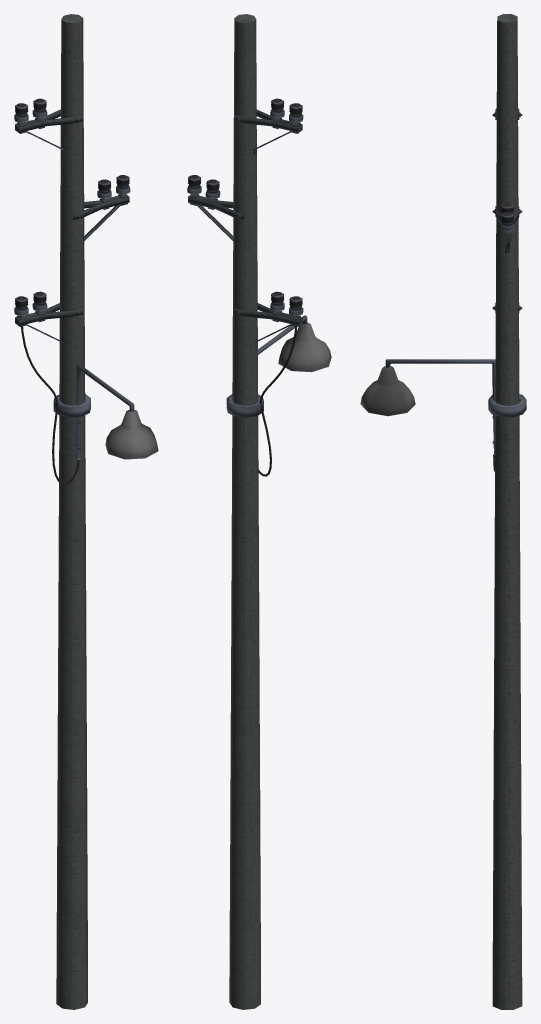
Rendered from pole_concrete_b_lod_0.glb.
The picture shows the model from 3 angles, left to right: view 1: azimuth 30°, elevation 25°; view 2: azimuth 150°, elevation 25°; view 3: azimuth 270°, elevation 25°; orthographic projection.
Parts seen in each view (by area): view 1: pole_concrete_b_lod_0; view 2: pole_concrete_b_lod_0; view 3: pole_concrete_b_lod_0.
Boxes of the visible parts, bbox=[...] form: pole_concrete_b_lod_0: bbox=[14, 14, 158, 1009]; pole_concrete_b_lod_0: bbox=[187, 14, 331, 1009]; pole_concrete_b_lod_0: bbox=[360, 14, 526, 1009].
Bounding box in the file's own units: 1.24 × 10.2 × 1.56.
2 materials, 2 textured.
